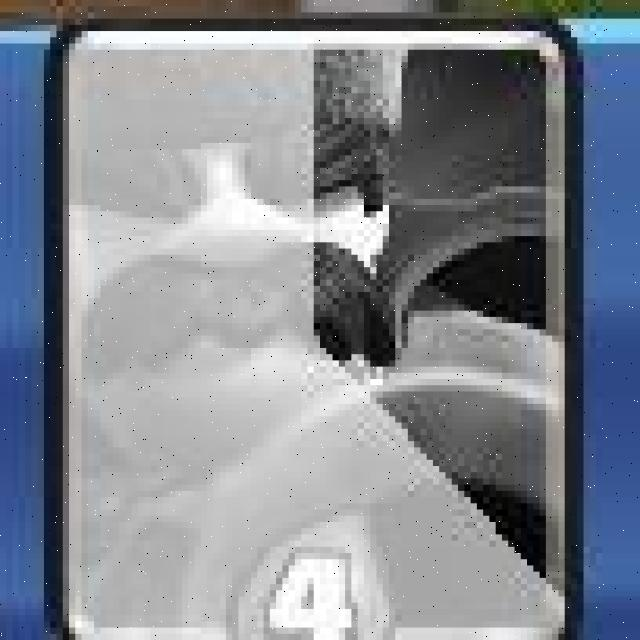Hunter: (49, 18, 578, 640)
